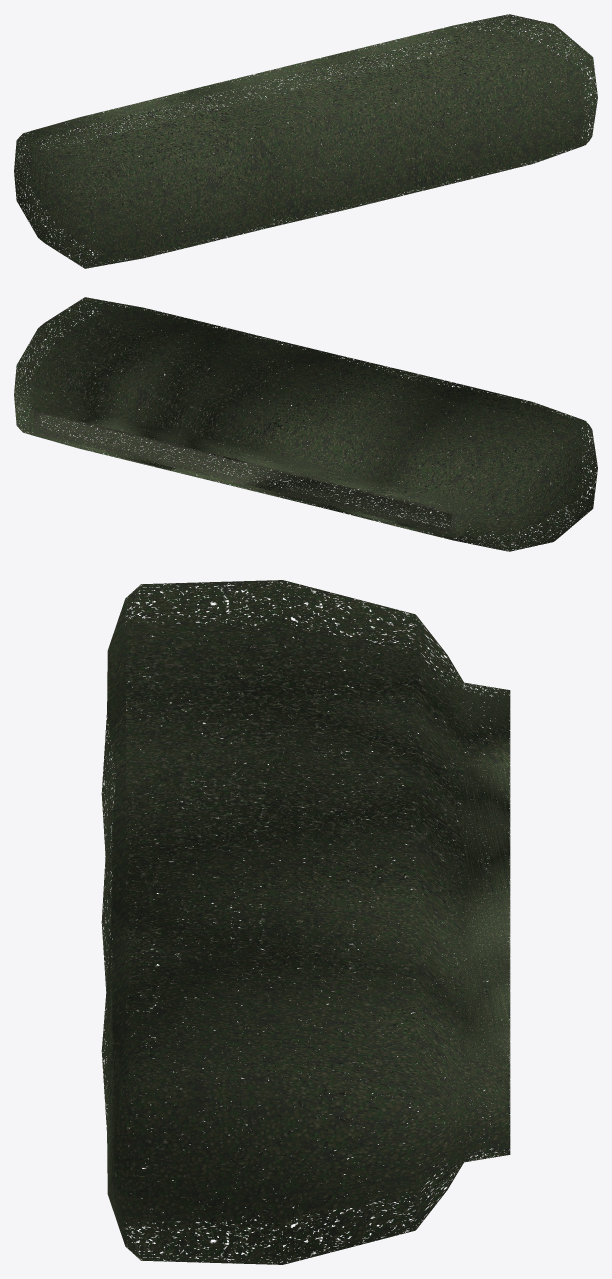
Rendered from nt_2020_foliage_hedge_boxy_2_set_LOD1.obj.
The picture shows the model from 3 angles, top to bottom: view 1: azimuth 30°, elevation 25°; view 2: azimuth 150°, elevation 25°; view 3: azimuth 270°, elevation 25°; orthographic projection. The views are drawn at different scales.
Parts seen in each view (by area): view 1: mtl_p6_foliage_hedge2, mtl_p6_foliage_hedge_no_alpha, mtl_p6_foliage_hedge_edge; view 2: mtl_p6_foliage_hedge2, mtl_p6_foliage_hedge_no_alpha, mtl_p6_foliage_hedge_edge; view 3: mtl_p6_foliage_hedge2, mtl_p6_foliage_hedge_no_alpha, mtl_p6_foliage_hedge_edge.
Boxes of the visible parts, box(x1,y1,x2,y2) form: mtl_p6_foliage_hedge2: box(14, 14, 597, 268); mtl_p6_foliage_hedge_no_alpha: box(31, 30, 584, 252); mtl_p6_foliage_hedge_edge: box(89, 62, 588, 263); mtl_p6_foliage_hedge2: box(14, 297, 597, 551); mtl_p6_foliage_hedge_no_alpha: box(31, 313, 581, 535); mtl_p6_foliage_hedge_edge: box(90, 302, 587, 501); mtl_p6_foliage_hedge2: box(101, 580, 510, 1264); mtl_p6_foliage_hedge_no_alpha: box(113, 623, 508, 1221); mtl_p6_foliage_hedge_edge: box(107, 603, 125, 1244).
Size of the model in its own units: 687 by 122 by 230.
